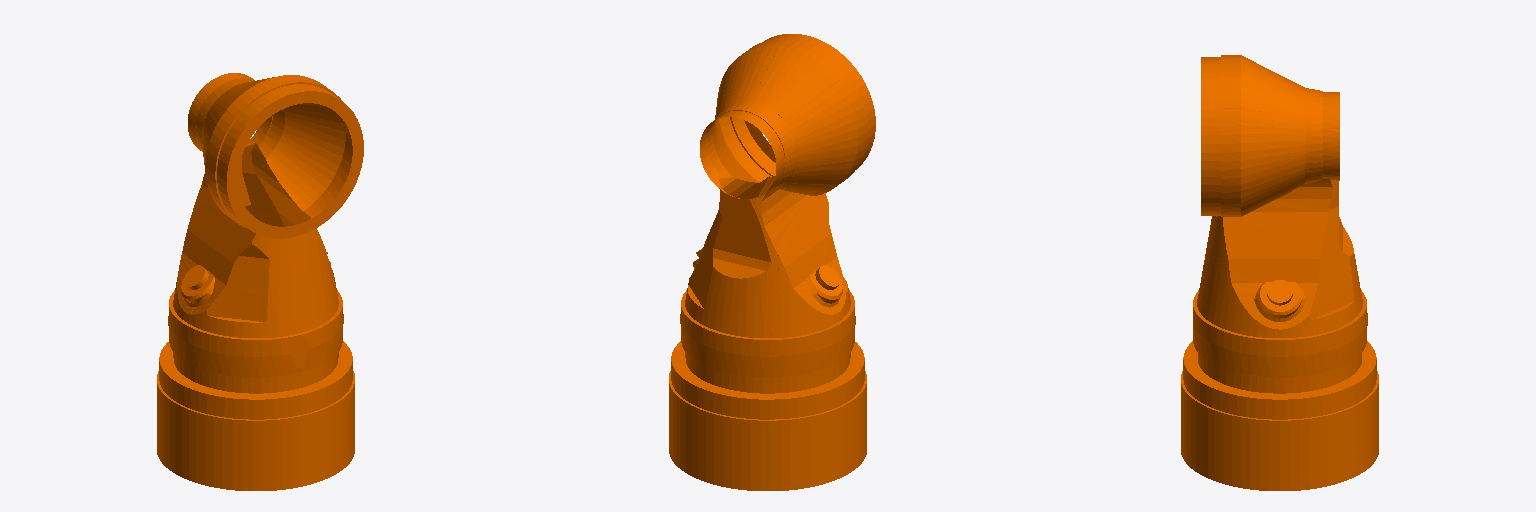
The model's file is Eslabon4.obj.
3 views of the same model, side by side, from view 1: azimuth 30°, elevation 25°; view 2: azimuth 150°, elevation 25°; view 3: azimuth 270°, elevation 25° (orthographic).
Visible parts, largest first — view 1: default; view 2: default; view 3: default.
Part boxes in pixels (x1,y1,x2,y2): default: (157, 73, 363, 490); default: (669, 34, 875, 490); default: (1181, 55, 1378, 490).
Bounding box in the file's own units: 0.154 × 0.3311 × 0.1539.